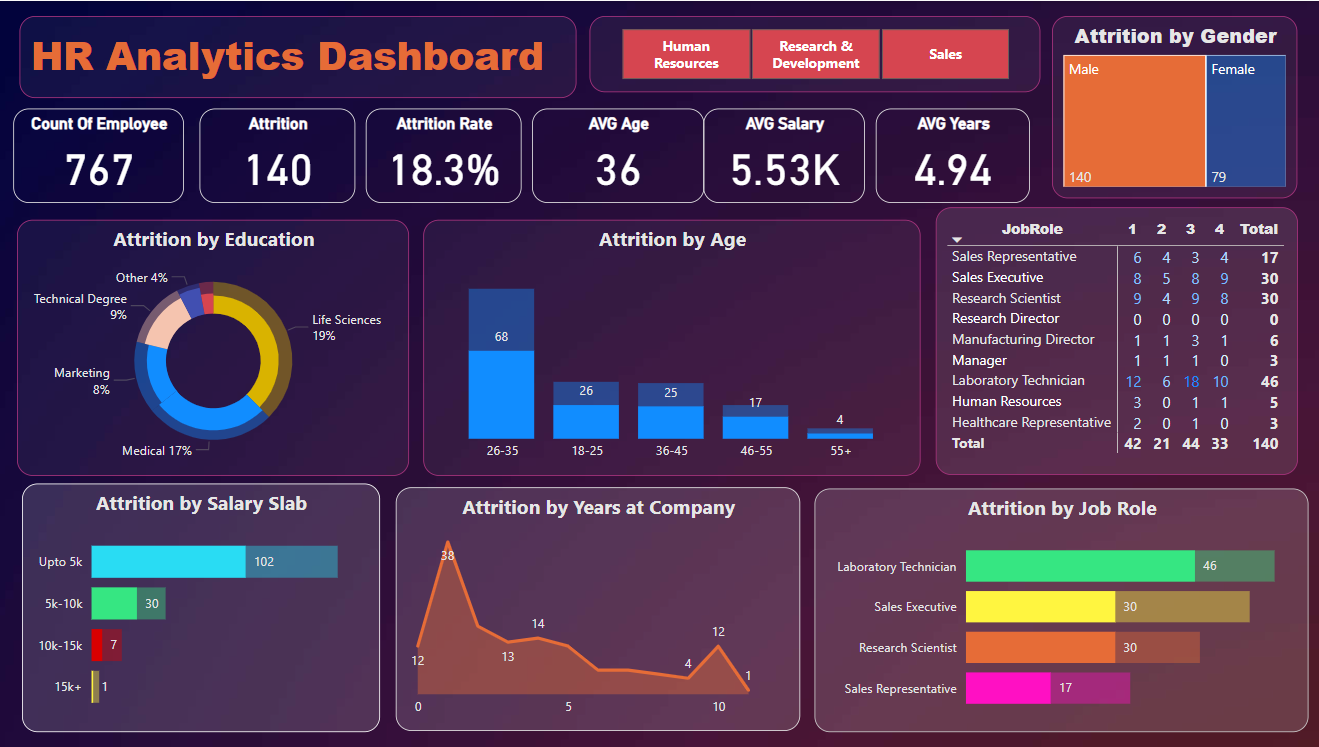

Layout of this report page (visuals, bound fields, positions):
{"tool":"powerbi","page":{"name":"Page 1","canvas":[1280,720],"ordinal":0},"visuals":[{"type":"card","title":"Count Of Employee","fields":{"Values":["CountNonNull(HR_Analytics.EmpID)"]},"box":[15.9,104,164.7,91],"z":0},{"type":"card","title":"Attrition","fields":{"Values":["Sum(HR_Analytics.Attrition Count)"]},"box":[195.1,104,150.3,91],"z":1000},{"type":"card","title":"Attrition Rate","fields":{"Values":["HR_Analytics.Attrition Rate"]},"box":[355.5,104,150.3,91],"z":2000},{"type":"card","title":"AVG Age","fields":{"Values":["Avg(HR_Analytics.Age)"]},"box":[515.9,104,166.2,91],"z":3000},{"type":"card","title":"AVG Salary","fields":{"Values":["Avg(HR_Analytics.MonthlyIncome)"]},"box":[682.1,104,156.1,91],"z":4000},{"type":"card","title":"AVG Years","fields":{"Values":["Avg(HR_Analytics.YearsAtCompany)"]},"box":[848.2,104,148.8,91],"z":5000},{"type":"donutChart","title":"Attrition by Education","fields":{"Category":["HR_Analytics.EducationField"],"Y":["Sum(HR_Analytics.Attrition Count)"]},"box":[18.8,211,378.6,247.1],"z":6000},{"type":"columnChart","title":"Attrition by Age","fields":{"Category":["HR_Analytics.AgeGroup"],"Y":["Sum(HR_Analytics.Attrition Count)"]},"box":[411.8,211,479.7,247.1],"z":7000},{"type":"pivotTable","fields":{"Rows":["HR_Analytics.JobRole"],"Columns":["HR_Analytics.JobSatisfaction"],"Values":["Sum(HR_Analytics.Attrition Count)"]},"box":[906,199.4,349.7,258.7],"z":8000},{"type":"barChart","title":"Attrition by Salary Slab","fields":{"Category":["HR_Analytics.SalarySlab"],"Y":["Sum(HR_Analytics.Attrition Count)"]},"box":[24.6,465.3,345.4,239.9],"z":9000},{"type":"barChart","title":"Attrition by Job Role","fields":{"Y":["Sum(HR_Analytics.Attrition Count)"],"Category":["HR_Analytics.JobRole"]},"box":[789,471.1,476.9,235.5],"z":10000},{"type":"areaChart","title":"Attrition by Years at Company","fields":{"Category":["HR_Analytics.YearsAtCompany"],"Y":["Sum(HR_Analytics.Attrition Count)"]},"box":[384.4,469.6,390.2,235.5],"z":11000},{"type":"treemap","title":"Attrition by Gender","fields":{"Group":["HR_Analytics.Gender"],"Values":["Sum(HR_Analytics.Attrition Count)"]},"box":[1018.7,14.5,237,176.3],"z":12000},{"type":"slicer","fields":{"Values":["HR_Analytics.Department"]},"box":[572.2,14.5,435,73.7],"z":13000},{"type":"textbox","box":[21.7,14.5,537.5,79.5],"z":14000}]}

Visuals, with their boxes in screenshot pixels (x1, y1, x2, y2), scaled from the page's 1280x720 canvas onto the 1319x747 screenshot:
"Count Of Employee" card: Rect(16, 108, 186, 202)
"Attrition" card: Rect(201, 108, 356, 202)
"Attrition Rate" card: Rect(366, 108, 521, 202)
"AVG Age" card: Rect(532, 108, 703, 202)
"AVG Salary" card: Rect(703, 108, 864, 202)
"AVG Years" card: Rect(874, 108, 1027, 202)
"Attrition by Education" donutChart: Rect(19, 219, 410, 475)
"Attrition by Age" columnChart: Rect(424, 219, 919, 475)
pivotTable - HR_Analytics.JobRole x HR_Analytics.JobSatisfaction: Rect(934, 207, 1294, 475)
"Attrition by Salary Slab" barChart: Rect(25, 483, 381, 732)
"Attrition by Job Role" barChart: Rect(813, 489, 1304, 733)
"Attrition by Years at Company" areaChart: Rect(396, 487, 798, 732)
"Attrition by Gender" treemap: Rect(1050, 15, 1294, 198)
slicer - HR_Analytics.Department: Rect(590, 15, 1038, 92)
textbox: Rect(22, 15, 576, 98)
